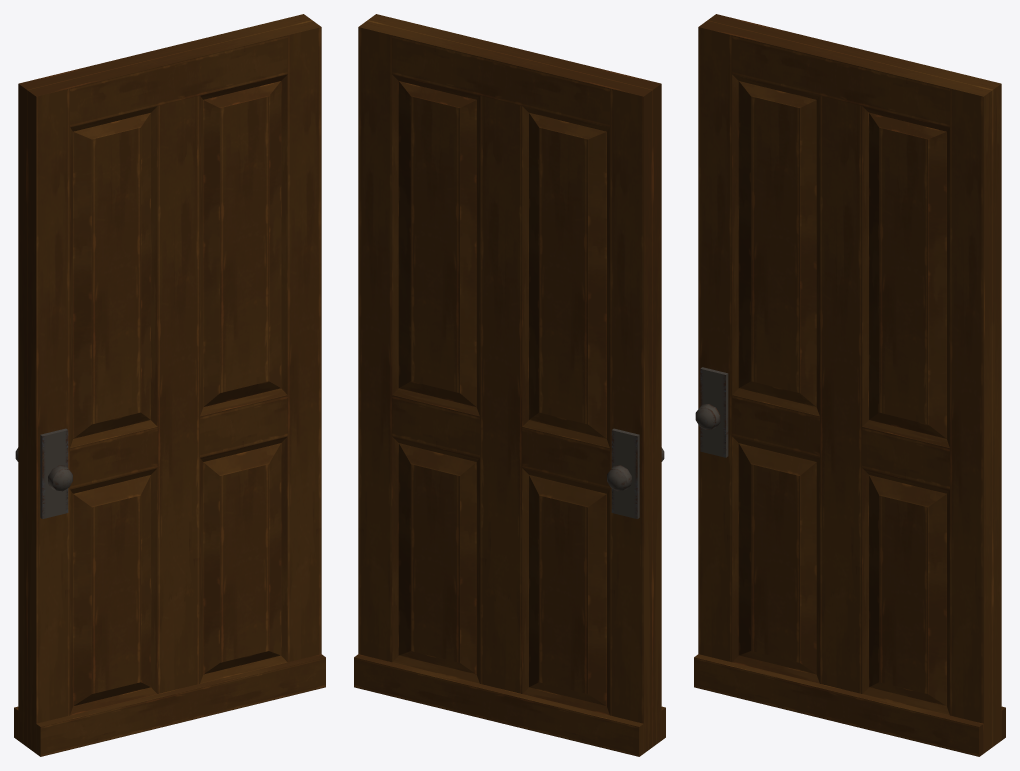
The model's file is Door_4.gltf.
3 renders of one model, left to right at view 1: azimuth 30°, elevation 25°; view 2: azimuth 150°, elevation 25°; view 3: azimuth 330°, elevation 25°, orthographic.
Visible parts, largest first — view 1: Door_4; view 2: Door_4; view 3: Door_4.
Boxes of the visible parts, x1=… form: Door_4: x1=14, y1=14, x2=325, y2=756; Door_4: x1=354, y1=14, x2=665, y2=756; Door_4: x1=694, y1=14, x2=1005, y2=756.
Bounding box in the file's own units: 1 × 2.2 × 0.2609.
2 materials, 2 textured.
